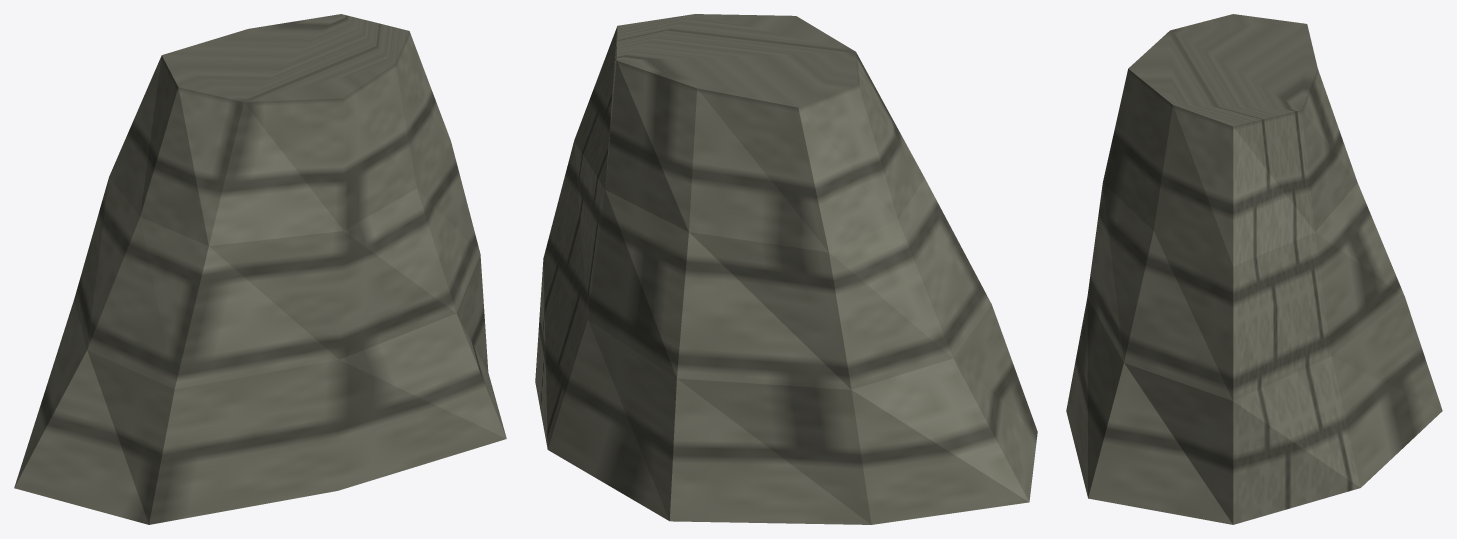
The model's file is cliff-granite-lod1.glb.
3 renders of one model, left to right at view 1: azimuth 30°, elevation 25°; view 2: azimuth 150°, elevation 25°; view 3: azimuth 270°, elevation 25°, orthographic. The views are drawn at different scales.
Bounding box in the file's own units: 0.5227 × 0.38 × 0.3602.
Materials: 1 (1 with a texture image).
